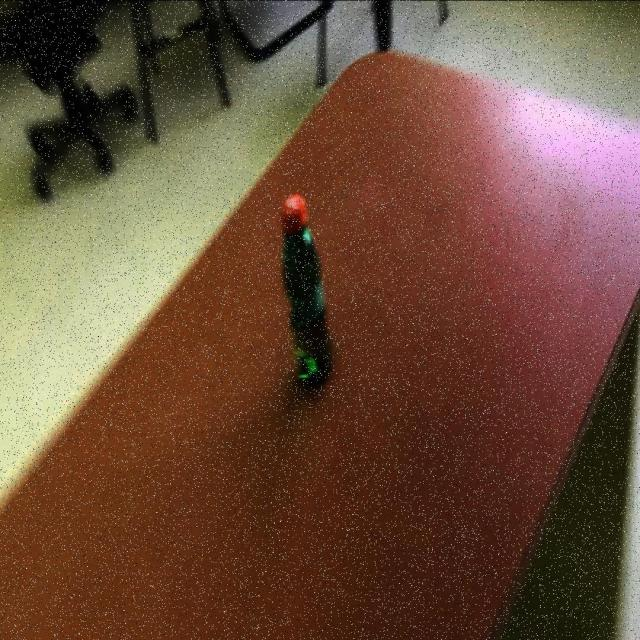Guarana: (278, 194, 329, 389)
